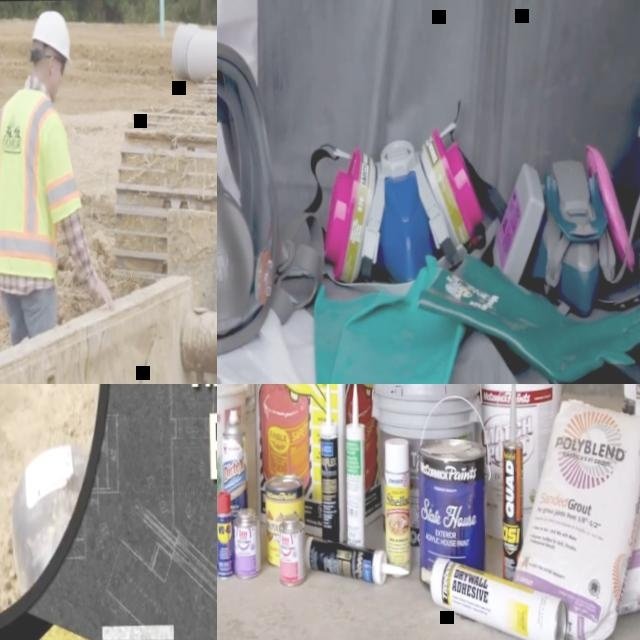Hardhat: (29, 7, 73, 62)
Mask: (324, 123, 489, 286), (488, 137, 637, 306), (217, 32, 283, 359)
NO-Mask: (48, 71, 62, 100)
Person: (0, 5, 120, 343)
Safety Vest: (0, 92, 82, 265)
machinery: (105, 0, 217, 296)
